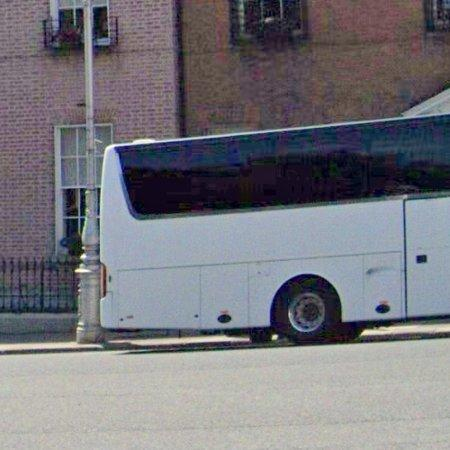buses: (101, 114, 450, 342)
